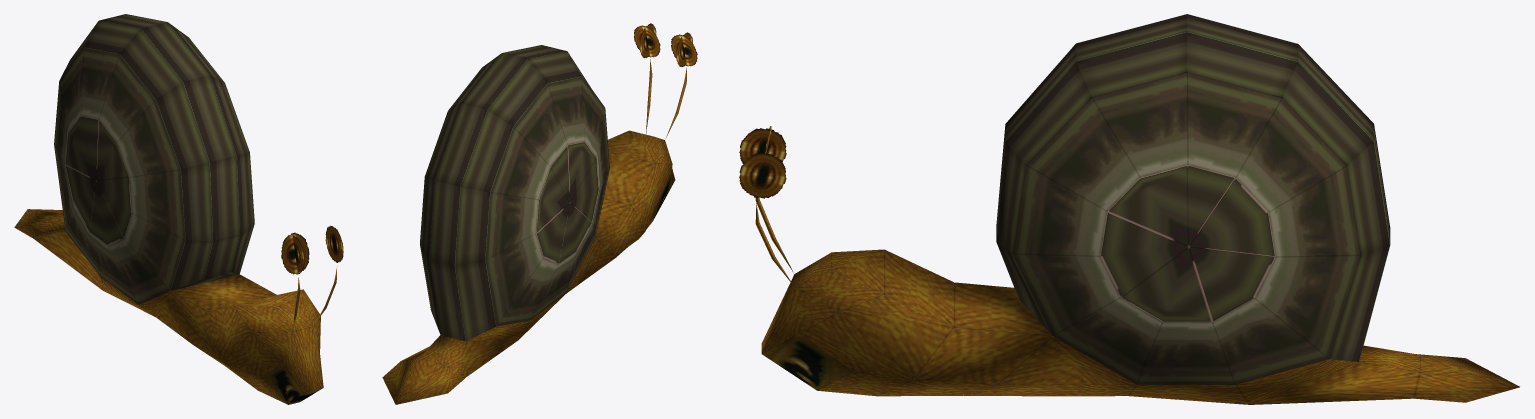
3 views of the same model, side by side, from view 1: azimuth 30°, elevation 25°; view 2: azimuth 150°, elevation 25°; view 3: azimuth 270°, elevation 25° (orthographic). The views are drawn at different scales.
Visible parts, largest first — view 1: T1L1M008_1; view 2: T1L1M008_1; view 3: T1L1M008_1.
Boxes of the visible parts, x1,y1,x2,y2 form: T1L1M008_1: (14, 14, 343, 404); T1L1M008_1: (382, 23, 697, 404); T1L1M008_1: (739, 14, 1519, 404).
Bounding box in the file's own units: 0.6191 × 1.4 × 2.75.
